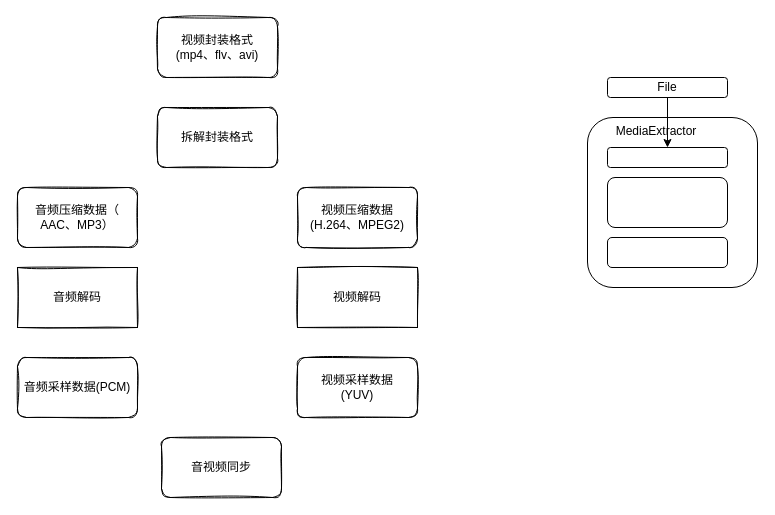
Image size: 775x515. Some labels were removed from this diagram. Here are the shapes that lost their labels. From the top down, the centre of each, then its label:
At point (667, 157): "setDataSource()".
At point (667, 202): "getTrackCount()获取轨道个数（音轨+视频）".
At point (667, 252): "getTrackFormat(获取当前轨道格式信息)".
